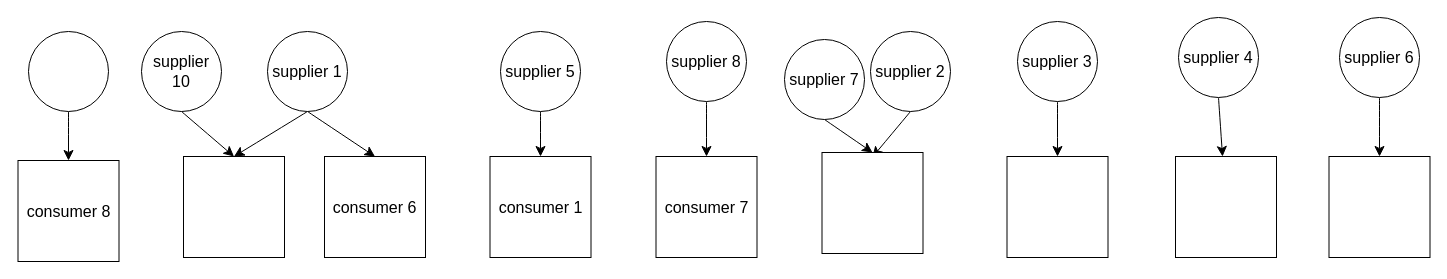
Some shapes in this 1447 by 279 pixel diagram are drawn without their labels. Here are the shapes that lost their labels. From the top down, the centre of each, then its label:
At (x=68, y=71): "supplier 9".
At (x=233, y=207): "consumer 9".
At (x=872, y=203): "consumer 2".
At (x=1057, y=207): "consumer 5".
At (x=1225, y=207): "consumer 3".
At (x=1379, y=207): "consumer 4".
